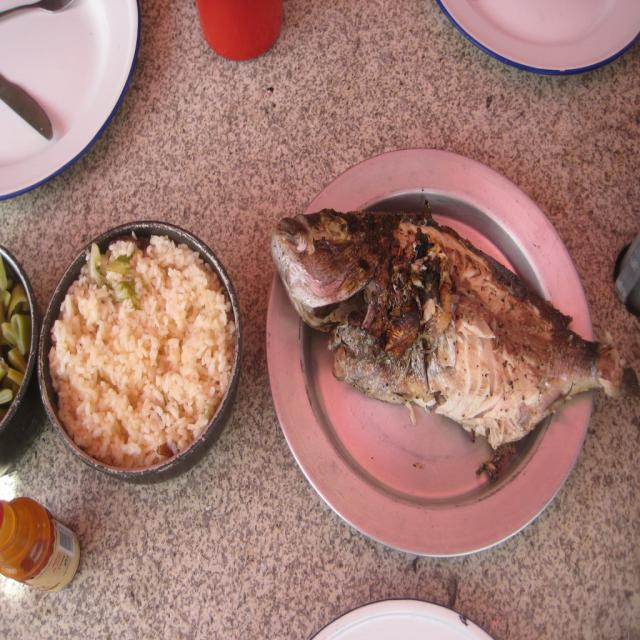non-organic waste: (262, 120, 587, 585)
